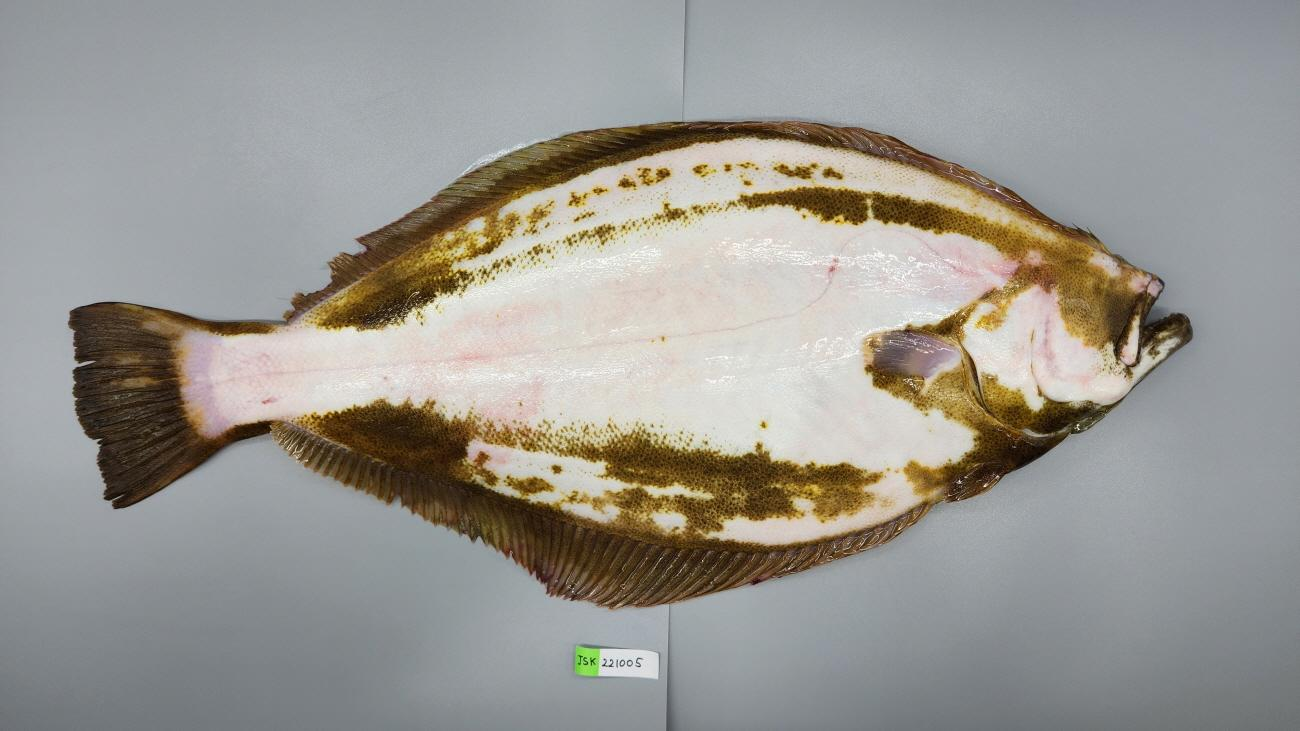POOUN: (69, 119, 1194, 608)
